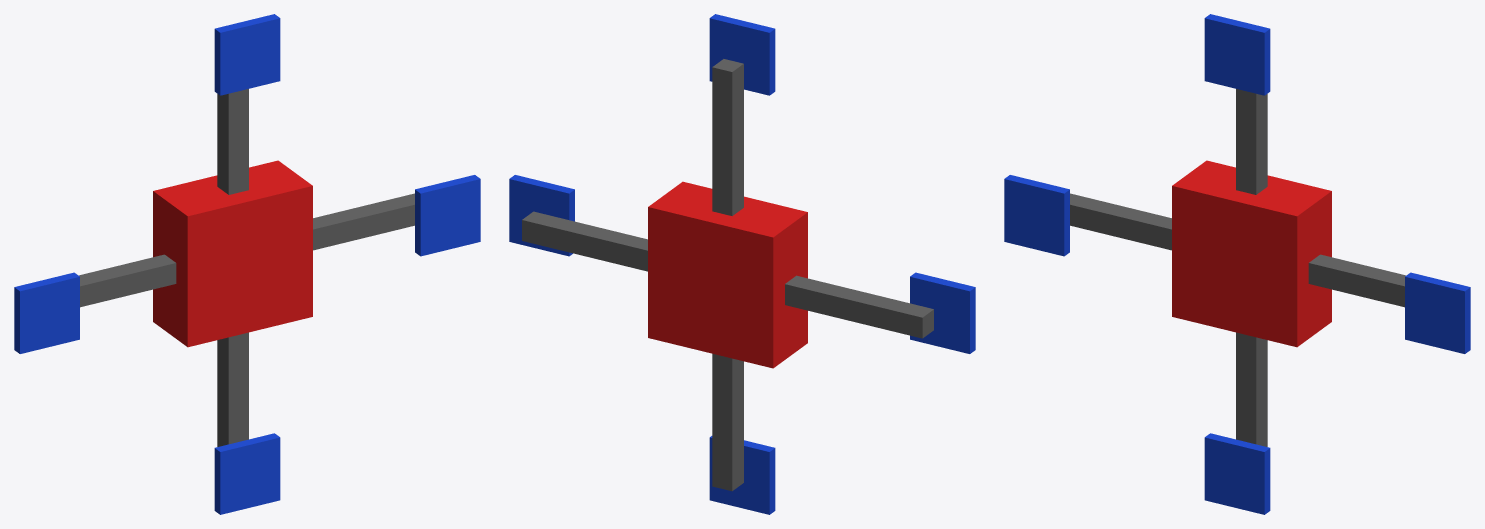
The model's file is drone.obj.
3 renders of one model, left to right at view 1: azimuth 30°, elevation 25°; view 2: azimuth 150°, elevation 25°; view 3: azimuth 330°, elevation 25°, orthographic.
Size of the model in its own units: 0.92 by 0.92 by 0.12.
